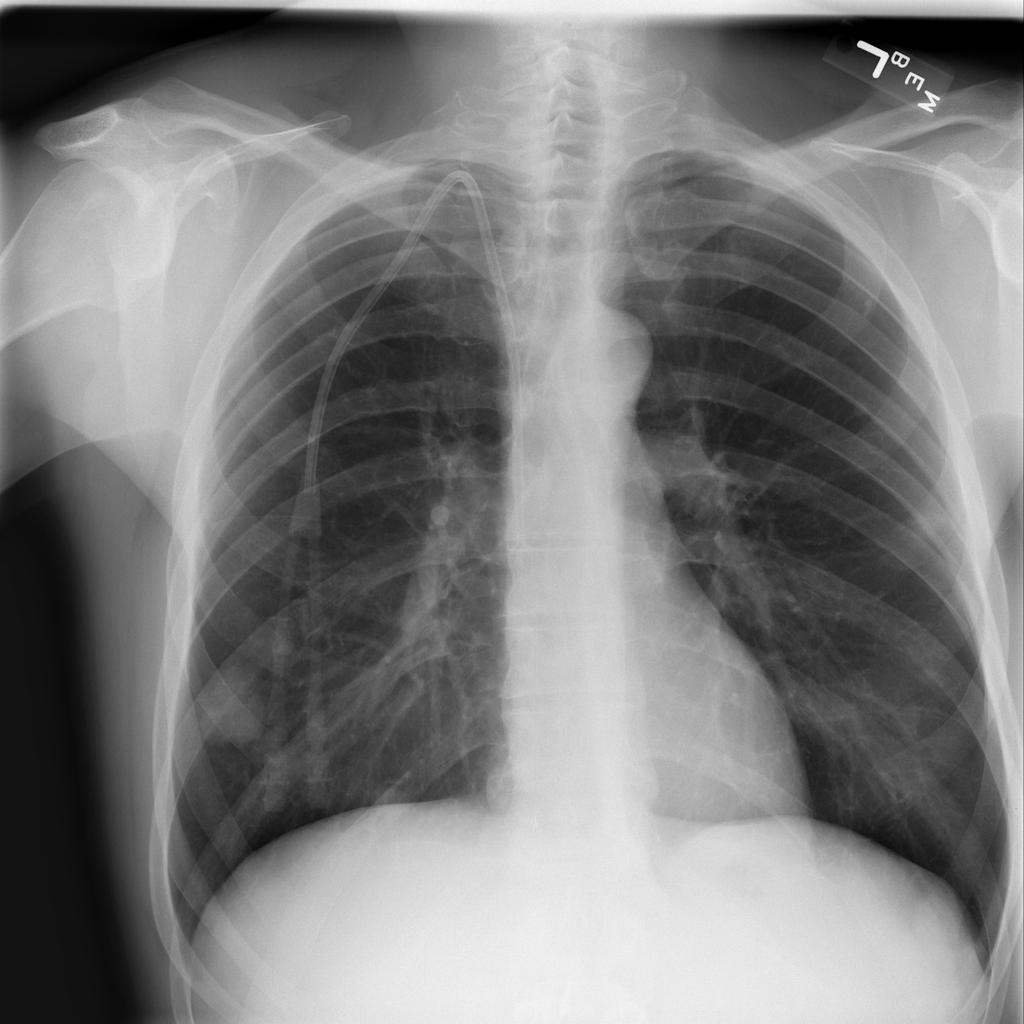nodule: (185, 649, 282, 766)
